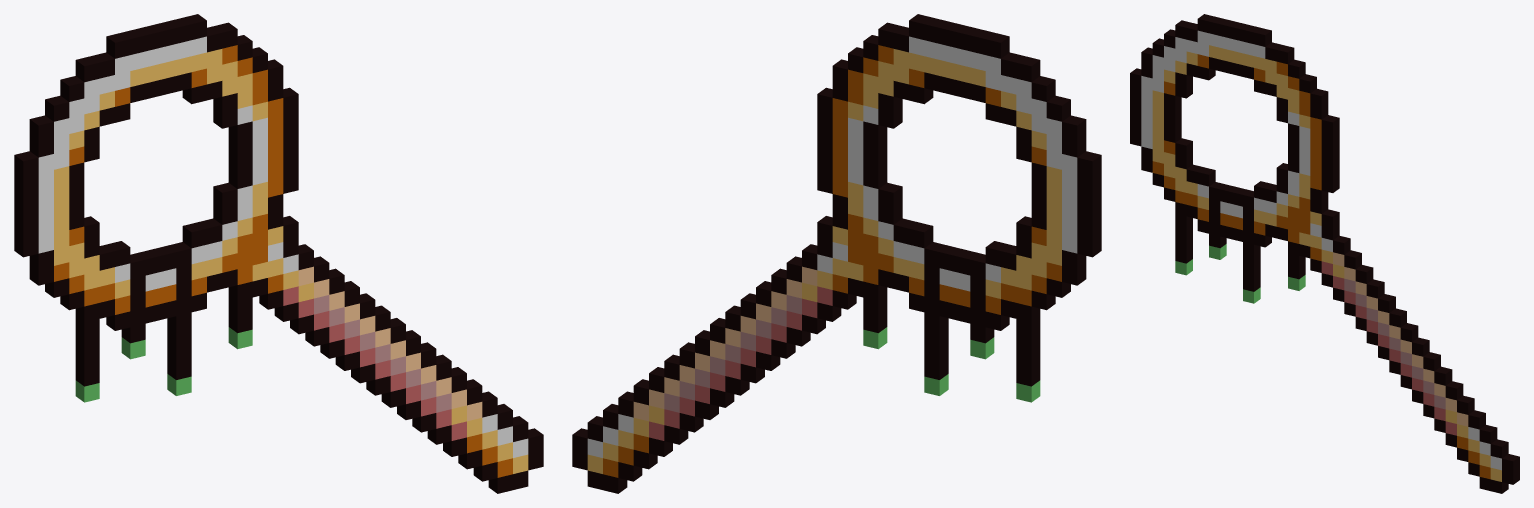
Rendered from W_Staff05.fbx.
3 views of the same model, side by side, from view 1: azimuth 30°, elevation 25°; view 2: azimuth 150°, elevation 25°; view 3: azimuth 330°, elevation 25° (orthographic). The views are drawn at different scales.
Parts seen in each view (by area): view 1: Default; view 2: Default; view 3: Default.
Part boxes in pixels (box(x1,y1,x2,y2)): Default: box(14, 14, 543, 493); Default: box(572, 14, 1101, 493); Default: box(1130, 14, 1519, 493).
Bounding box in the file's own units: 34 × 34 × 1.
1 material, 1 textured.
